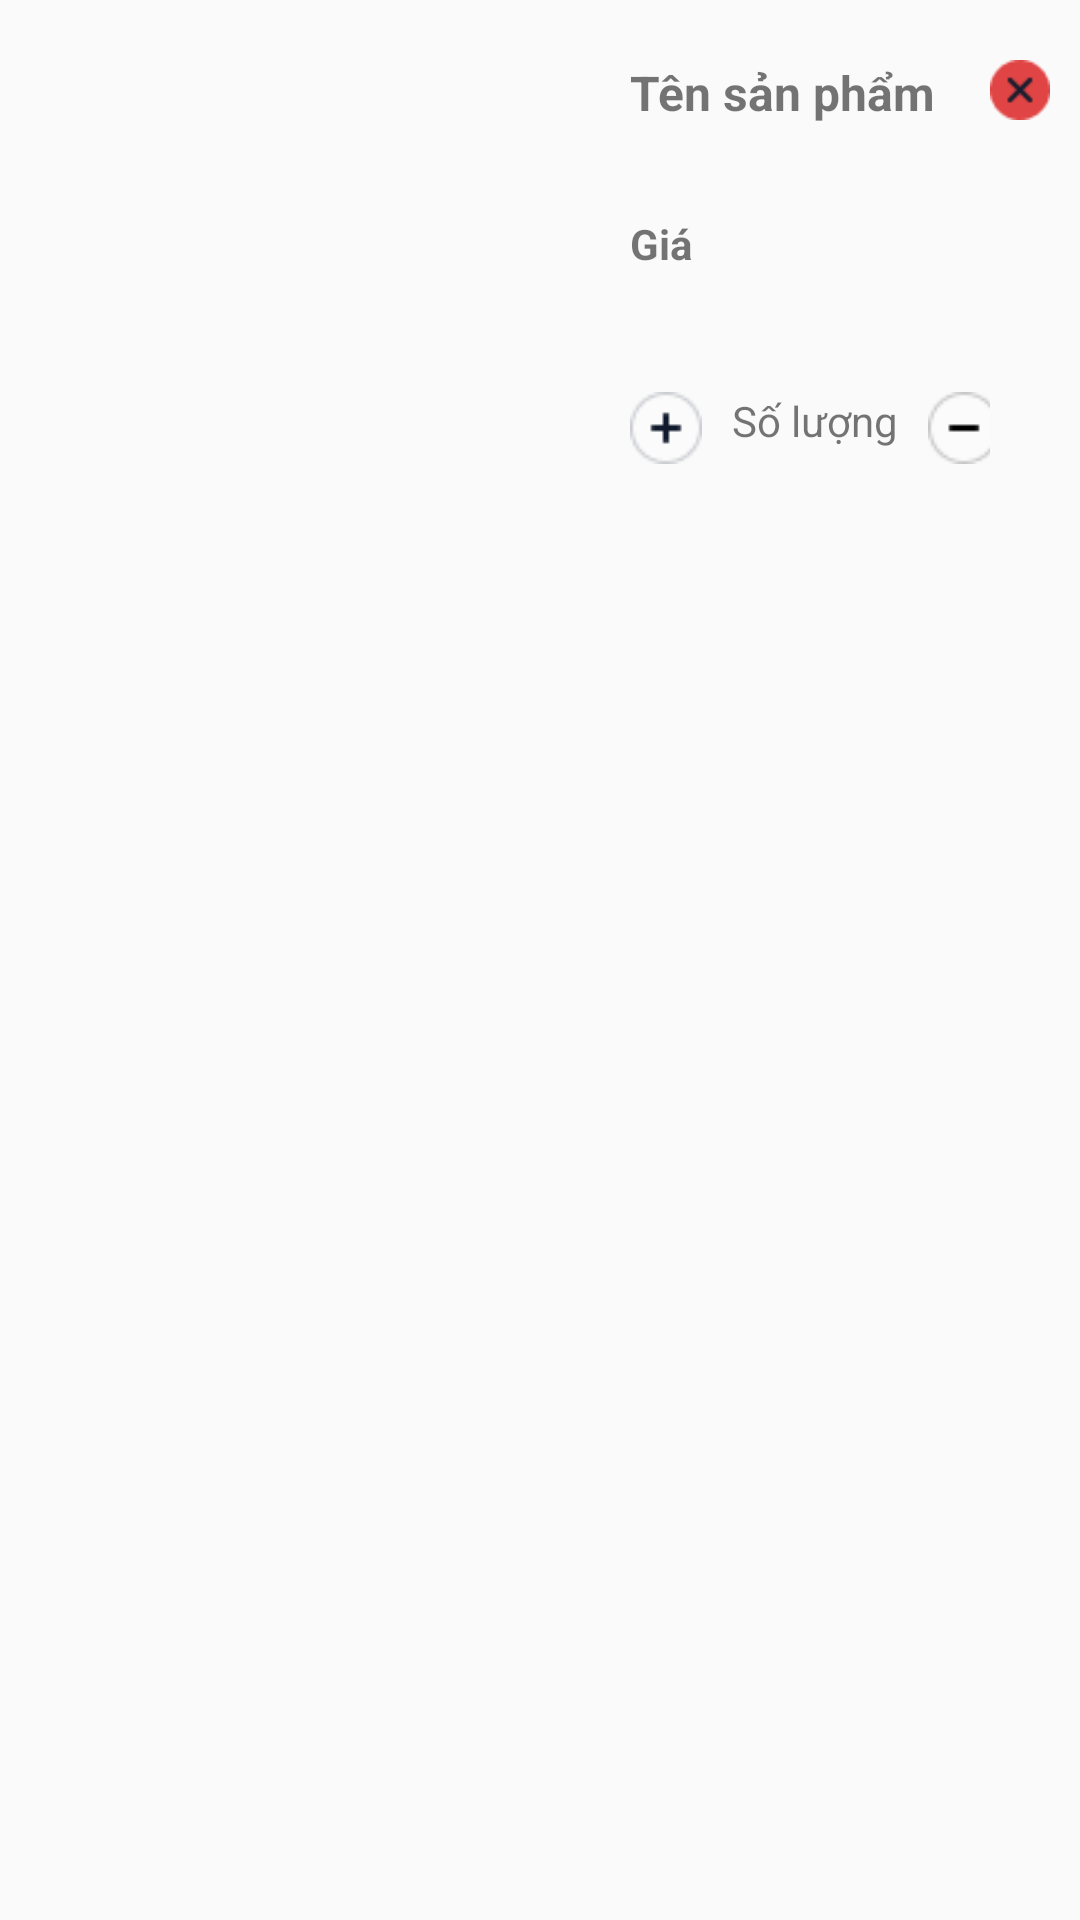

Named icons in this screenshot (1080 x 1920) and their centers, (x=x, y=y):
btncong: (x=666, y=428)
delete: (x=1020, y=90)
